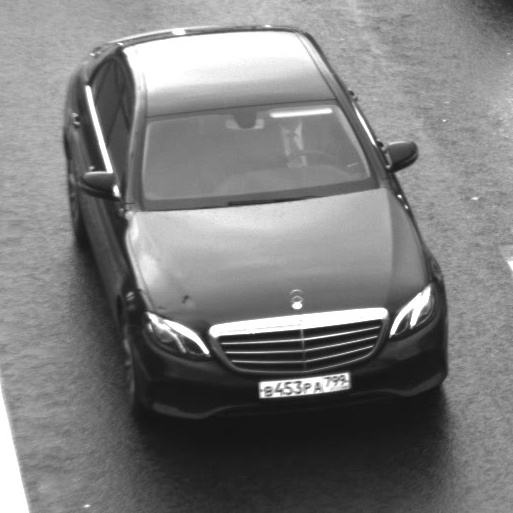plate: (248, 363, 359, 406)
